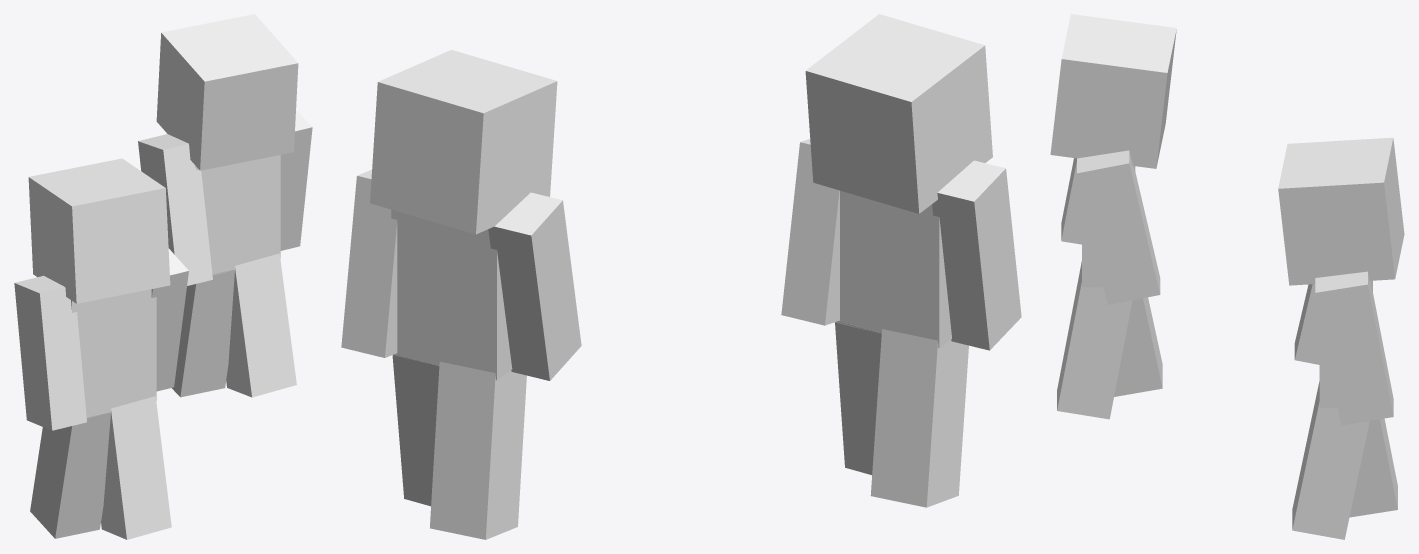
3 views of the same model, side by side, from view 1: azimuth 30°, elevation 25°; view 2: azimuth 150°, elevation 25°; view 3: azimuth 270°, elevation 25° (orthographic). The views are drawn at different scales.
Visible parts, largest first — view 1: Hat Layer (×2), Body Layer (×2), Right Leg Layer (×2), Left Leg Layer (×2), Right Arm Layer (×2), Left Arm Layer (×2); view 2: Hat Layer (×2), Body Layer (×2), Right Arm Layer (×2), Left Leg Layer (×2), Left Arm Layer (×2), Right Leg Layer (×2); view 3: Hat Layer (×2), Right Leg Layer (×2), Left Leg Layer (×2), Left Arm Layer (×2), Right Arm Layer (×2), Body Layer (×2).
Part boxes in pixels (<box>): Hat Layer (×2): <box>28,14,298,303</box>; Body Layer (×2): <box>71,155,280,417</box>; Right Leg Layer (×2): <box>30,253,296,538</box>; Left Leg Layer (×2): <box>101,269,234,539</box>; Right Arm Layer (×2): <box>14,110,312,430</box>; Left Arm Layer (×2): <box>138,134,212,391</box>; Hat Layer (×2): <box>370,14,992,234</box>; Body Layer (×2): <box>391,190,951,380</box>; Right Arm Layer (×2): <box>341,160,1021,357</box>; Left Leg Layer (×2): <box>430,321,881,539</box>; Left Arm Layer (×2): <box>488,139,839,380</box>; Right Leg Layer (×2): <box>392,329,968,507</box>; Hat Layer (×2): <box>1050,14,1404,285</box>; Right Leg Layer (×2): <box>1114,297,1369,539</box>; Left Leg Layer (×2): <box>1057,261,1397,517</box>; Left Arm Layer (×2): <box>1077,150,1319,364</box>; Right Arm Layer (×2): <box>1061,158,1393,425</box>; Body Layer (×2): <box>1082,166,1372,407</box>.
Size of the model in its own units: 2.41 by 2.09 by 1.86.
Materials: 1 (1 with a texture image).
